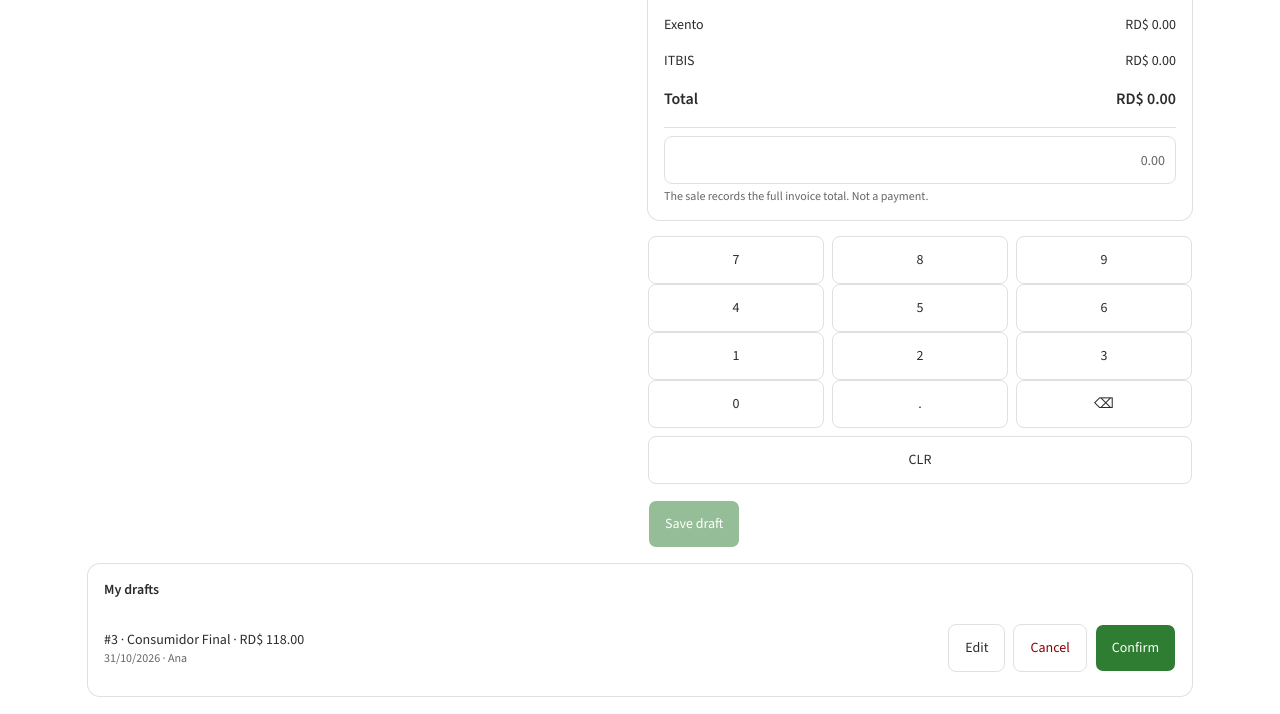
Test: POS confirm control (R-V14 5c slice) › renders the distinct rejection surface for LIMITE_CREDITO_EXCEDIDO
(page scrolled)
What coordinates should you click on to do the following:
click the button with aria-label "Confirm draft 3"
I would click on:
 (1135, 648)
Its box is [1095,624,1176,672].
(page scrolled)
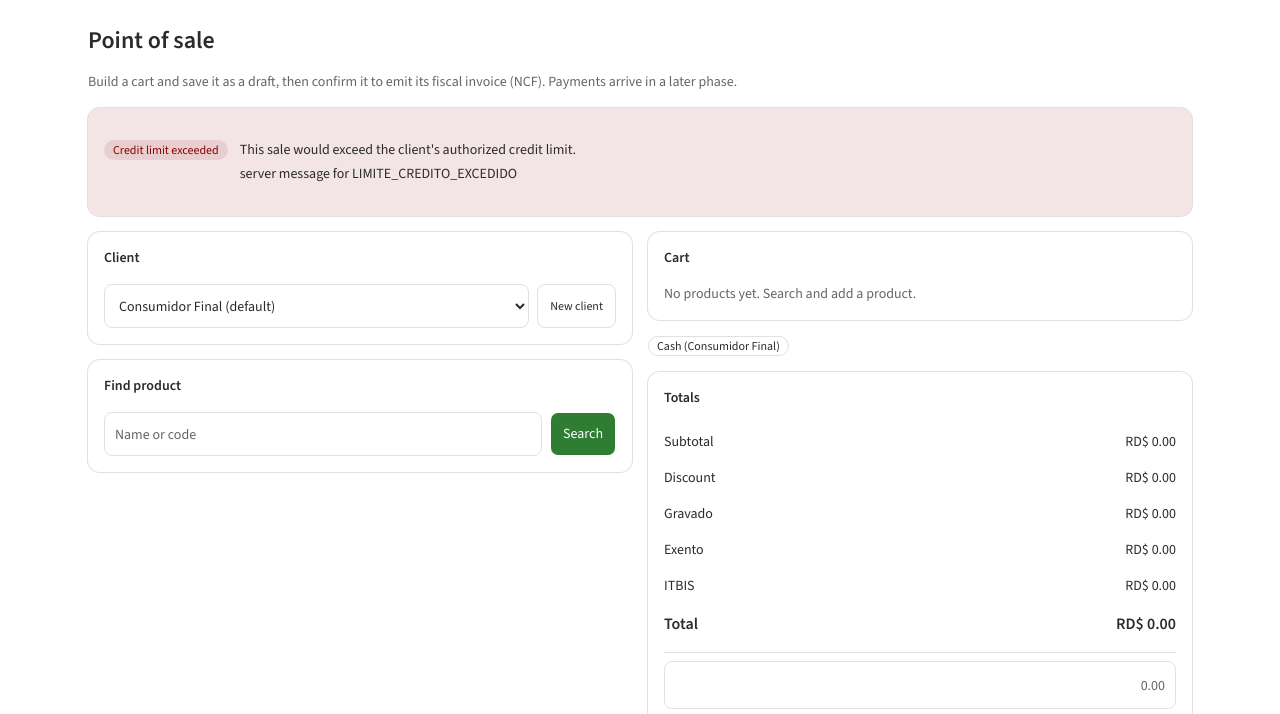
Check: the text "Credit limit exceeded" is shown, box [104,140,228,160]
Check: the text "This sale would exceed the client's authorized credit limit." is shown, box [240,140,576,160]
